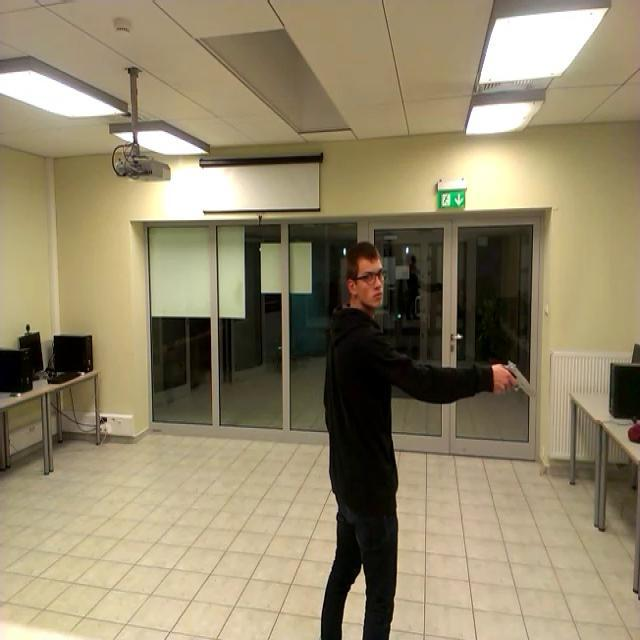Gun: (498, 349, 542, 408)
